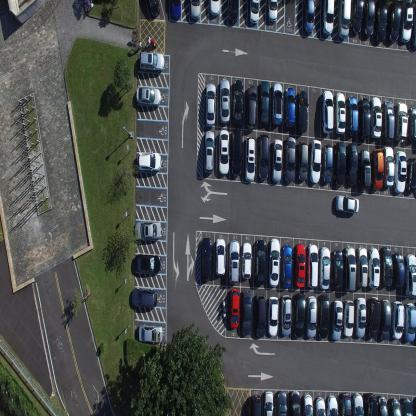car: (268, 236, 281, 287), (135, 85, 162, 108), (134, 252, 162, 274), (367, 296, 381, 340), (309, 137, 322, 184), (231, 127, 243, 177), (139, 50, 164, 74), (337, 0, 352, 40), (293, 242, 306, 288), (343, 246, 356, 292), (293, 292, 306, 338), (394, 101, 408, 143), (330, 299, 344, 341), (321, 89, 334, 134), (284, 136, 296, 184), (318, 292, 330, 340), (131, 286, 157, 308), (382, 100, 395, 144), (258, 133, 270, 180), (218, 128, 230, 175), (232, 79, 244, 126), (246, 84, 258, 131), (334, 140, 346, 187), (391, 300, 405, 340), (387, 3, 401, 43), (200, 236, 212, 282), (244, 136, 256, 182), (204, 81, 216, 127), (258, 81, 270, 127), (254, 292, 266, 338), (136, 150, 161, 172), (371, 147, 384, 189), (379, 299, 392, 341), (272, 138, 284, 183), (134, 220, 161, 240), (271, 81, 283, 126), (296, 140, 309, 181), (334, 90, 346, 134), (404, 254, 416, 298), (318, 246, 330, 290), (137, 324, 163, 344), (241, 289, 252, 336), (255, 238, 266, 285), (368, 247, 380, 290), (401, 0, 413, 43), (229, 238, 240, 284), (347, 140, 358, 186), (307, 242, 318, 288), (267, 295, 279, 337), (280, 294, 292, 336), (356, 246, 368, 288), (355, 296, 367, 338), (335, 193, 360, 213), (204, 129, 215, 174), (219, 78, 230, 123), (281, 244, 292, 289), (359, 148, 371, 189), (381, 246, 393, 287), (306, 296, 318, 337), (297, 89, 308, 133), (395, 149, 406, 193), (359, 96, 370, 140), (371, 96, 382, 140), (284, 87, 296, 127), (331, 249, 343, 289), (404, 302, 416, 342), (322, 142, 333, 184), (322, 0, 334, 37), (363, 0, 375, 37), (375, 6, 387, 43), (215, 236, 226, 276), (392, 252, 404, 288), (347, 95, 358, 134), (230, 287, 240, 329), (384, 146, 394, 187), (351, 0, 363, 34), (242, 241, 252, 280), (344, 299, 354, 337), (406, 157, 416, 194), (304, 0, 314, 35), (364, 392, 378, 415), (289, 389, 301, 415), (275, 390, 287, 415), (351, 392, 364, 415), (408, 106, 416, 142), (339, 392, 351, 415), (249, 0, 260, 25), (326, 394, 338, 416), (301, 394, 313, 416), (228, 0, 239, 23), (388, 397, 402, 415), (264, 390, 274, 415), (208, 0, 221, 19), (170, 0, 182, 20), (147, 0, 160, 18), (251, 394, 262, 415), (190, 0, 201, 21), (314, 396, 326, 415), (401, 397, 413, 415), (378, 394, 388, 415), (268, 0, 277, 23), (411, 7, 416, 48)
